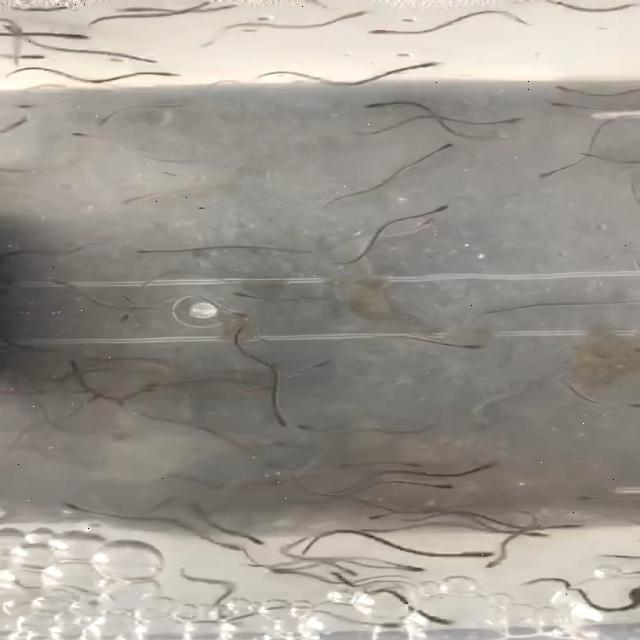active_glass_eel: (411, 608, 457, 626), (391, 558, 432, 576), (502, 527, 552, 541), (415, 202, 450, 220), (352, 619, 402, 631), (212, 305, 254, 319), (543, 98, 584, 112), (337, 8, 377, 22), (446, 337, 486, 351), (402, 61, 452, 72), (457, 461, 501, 473), (290, 421, 327, 435), (114, 196, 150, 210), (240, 532, 270, 548), (209, 542, 249, 554), (360, 24, 394, 38), (144, 70, 182, 82), (272, 404, 291, 428), (224, 291, 256, 305), (58, 129, 94, 141), (17, 100, 47, 114), (490, 115, 528, 126), (123, 56, 157, 68), (552, 520, 586, 532), (539, 168, 567, 182), (302, 356, 332, 369), (10, 52, 42, 64), (418, 480, 456, 490), (432, 141, 459, 155), (111, 2, 141, 14), (57, 30, 93, 40), (552, 82, 582, 94), (484, 554, 504, 572), (115, 308, 134, 326), (572, 493, 603, 504), (455, 550, 497, 558), (358, 100, 390, 110), (95, 112, 117, 126), (364, 511, 392, 521), (138, 246, 158, 256)
